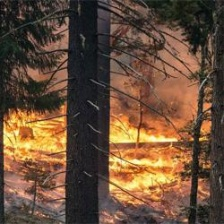fire: (3, 104, 187, 202)
